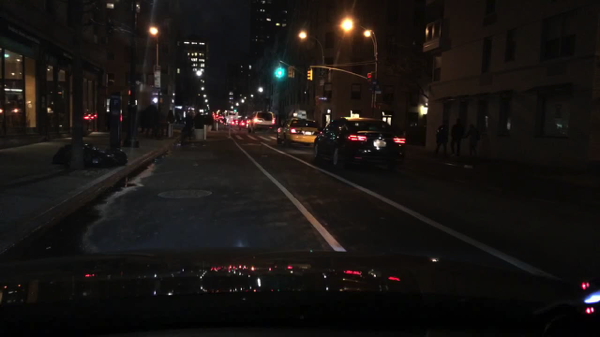car: (312, 118, 405, 171), (277, 109, 324, 147), (247, 110, 274, 134), (239, 118, 250, 130), (206, 111, 213, 123), (223, 116, 231, 125), (232, 120, 239, 126), (214, 115, 220, 122), (219, 116, 224, 123)
person: (431, 116, 450, 157), (450, 118, 464, 157), (464, 122, 480, 156), (144, 102, 157, 139), (181, 112, 193, 143), (166, 110, 175, 138), (139, 106, 147, 132), (194, 110, 203, 127), (221, 117, 226, 128)
traffic light: (366, 71, 374, 86), (277, 63, 283, 78), (306, 70, 313, 81), (287, 66, 293, 77), (313, 95, 319, 105), (151, 97, 158, 103), (127, 90, 131, 96), (158, 97, 162, 103), (233, 108, 237, 113)
traffic sign: (111, 98, 118, 107), (375, 85, 382, 94), (151, 91, 163, 96), (320, 96, 328, 102)
